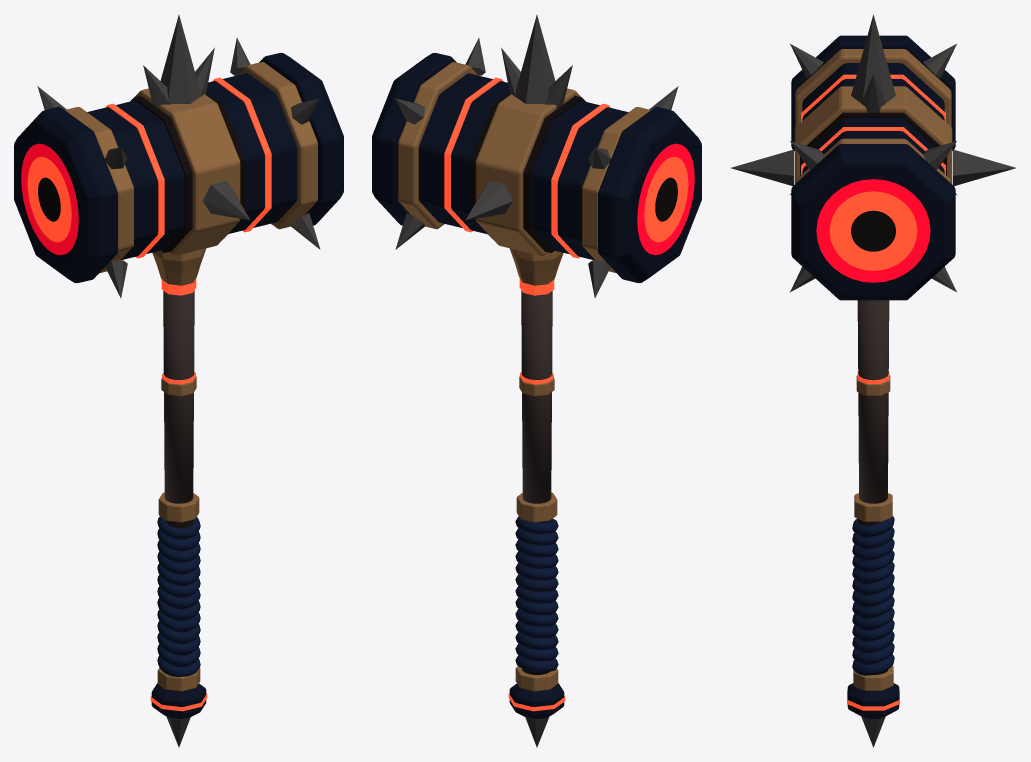
Rendered from hammer_darumaotoshi.fbx.
3 renders of one model, left to right at view 1: azimuth 30°, elevation 25°; view 2: azimuth 150°, elevation 25°; view 3: azimuth 270°, elevation 25°, orthographic.
Parts seen in each view (by area): view 1: darumaotoshi_hammer; view 2: darumaotoshi_hammer; view 3: darumaotoshi_hammer.
Boxes of the visible parts, x1,y1,x2,y2 form: darumaotoshi_hammer: (14, 15, 343, 747); darumaotoshi_hammer: (372, 15, 701, 747); darumaotoshi_hammer: (731, 14, 1015, 747).
Size of the model in its own units: 1.13 by 3.05 by 1.08.
